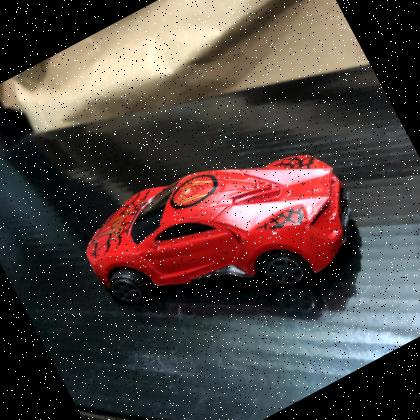Car: (86, 154, 353, 306)
